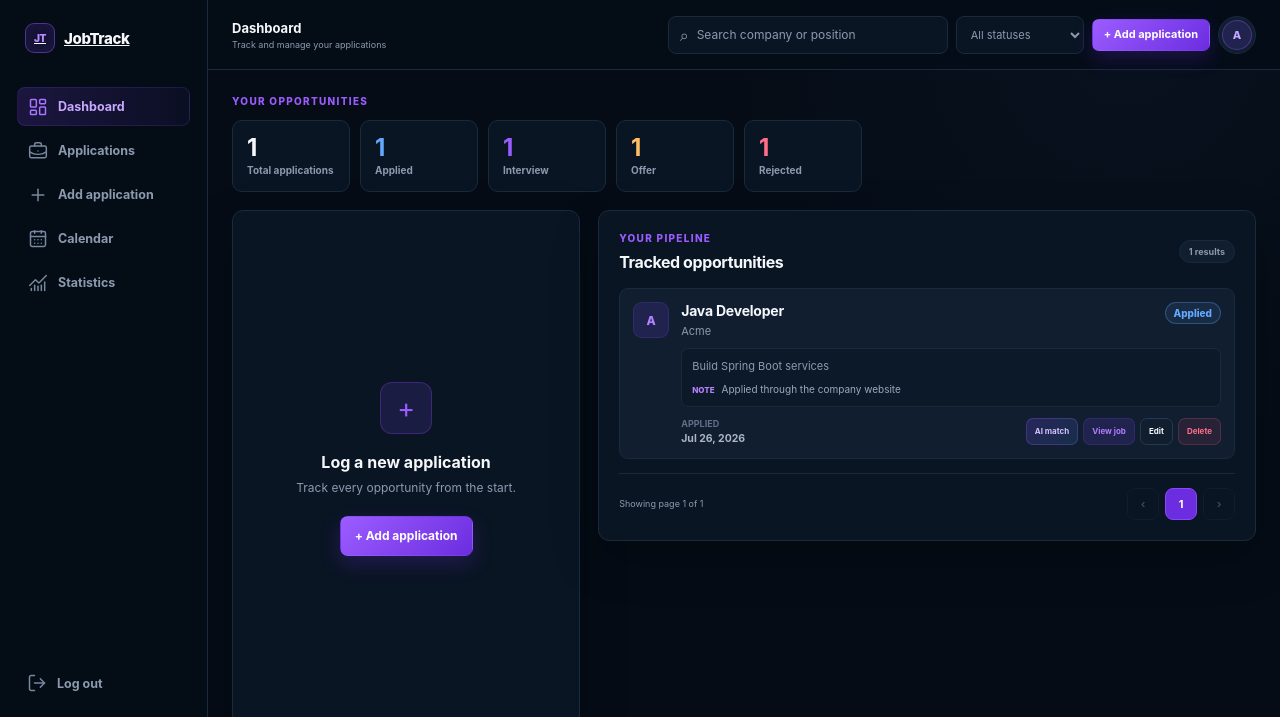
Test: ApplicationsPage › updates an existing application
Check: the heading "Java Developer" is shown, box [681, 302, 784, 320]
Click the button "Edit". click: (1156, 431)
box: [1140, 418, 1173, 445]
(page scrolled)
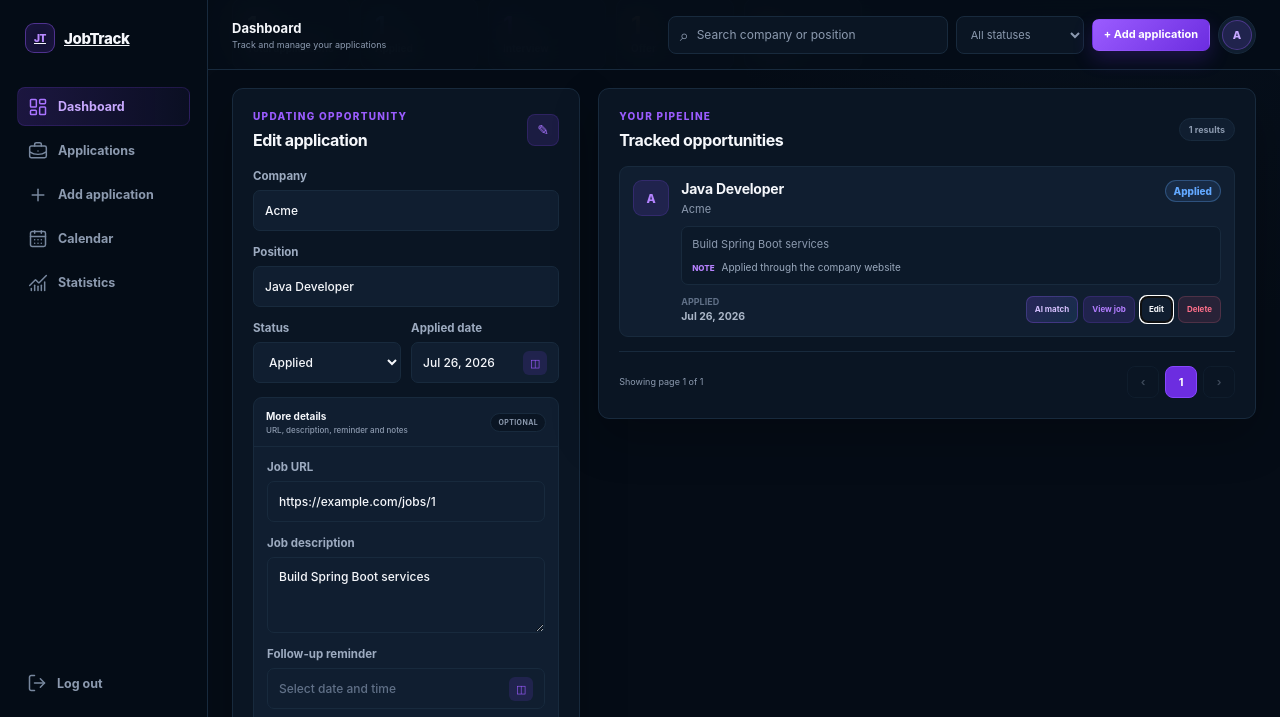
Replace the text in the field labelled "Company" with "Updated Acme". click: (406, 210)
box: [253, 190, 559, 231]
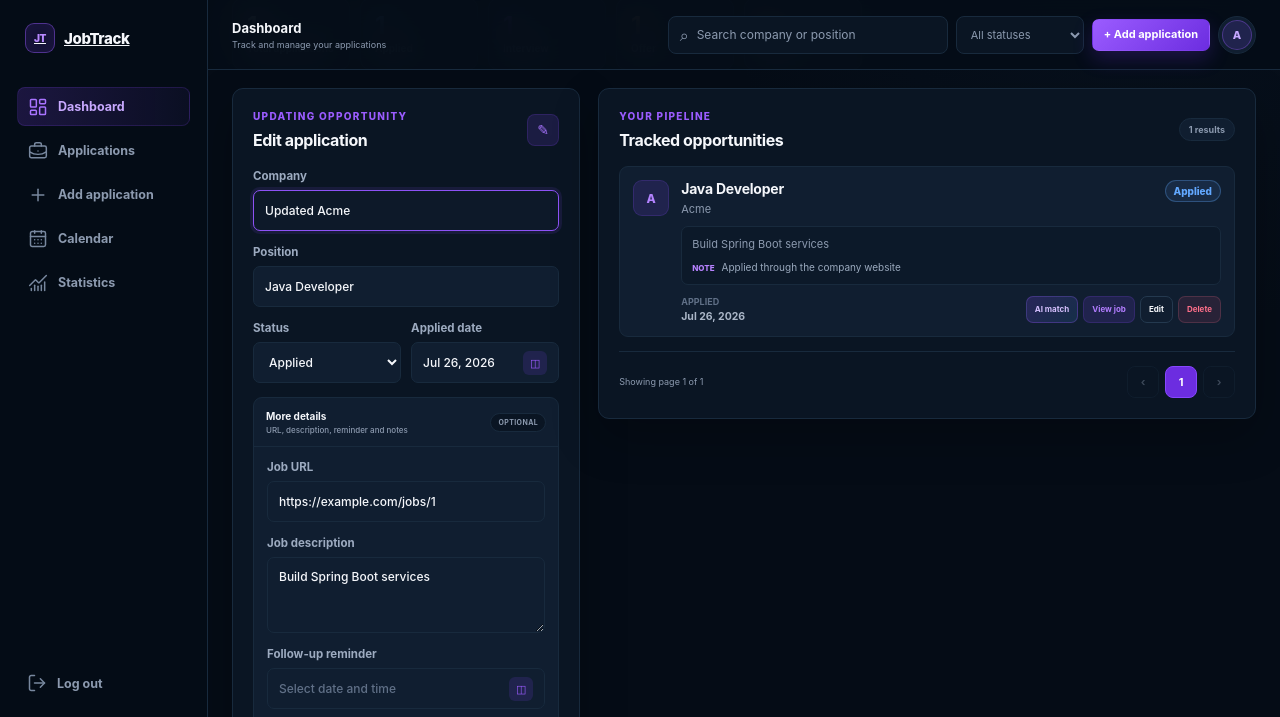
Select "Interview" in the dropdown labelled "Status". click: (327, 362)
box: [253, 342, 401, 383]
(page scrolled)
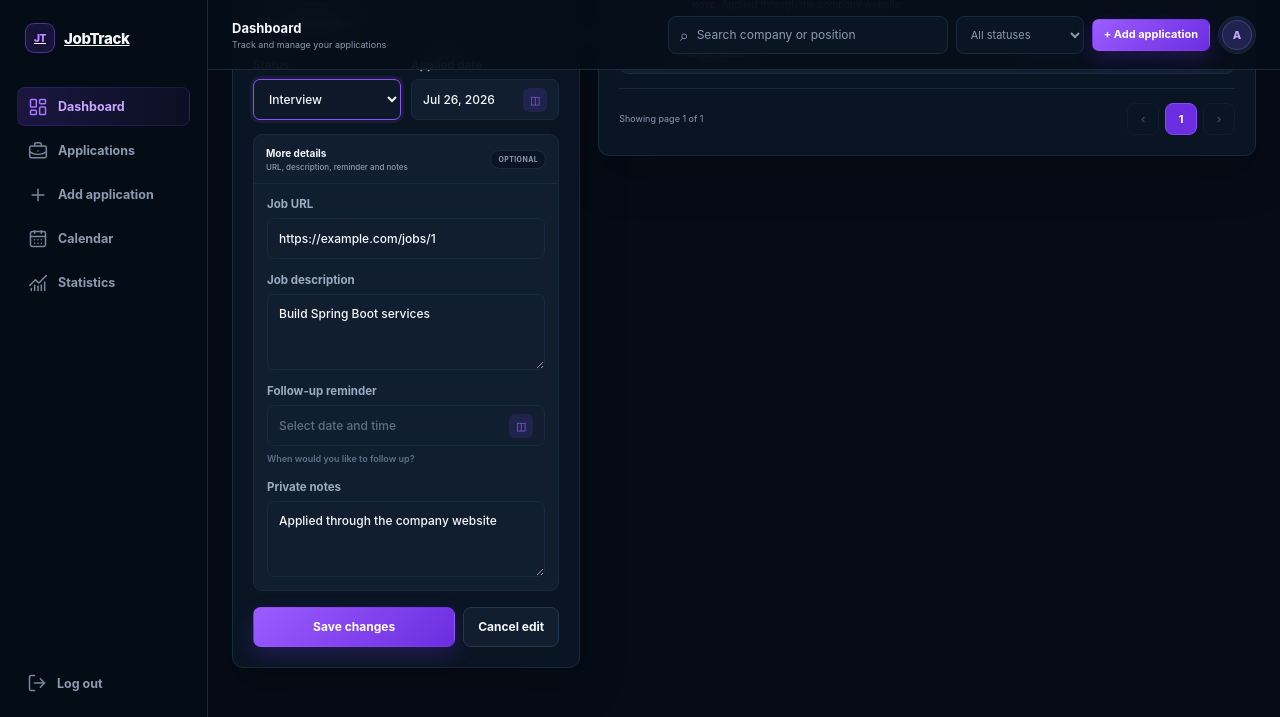
Click the button "Save changes". click: (354, 627)
box: [253, 607, 455, 647]
(page scrolled)
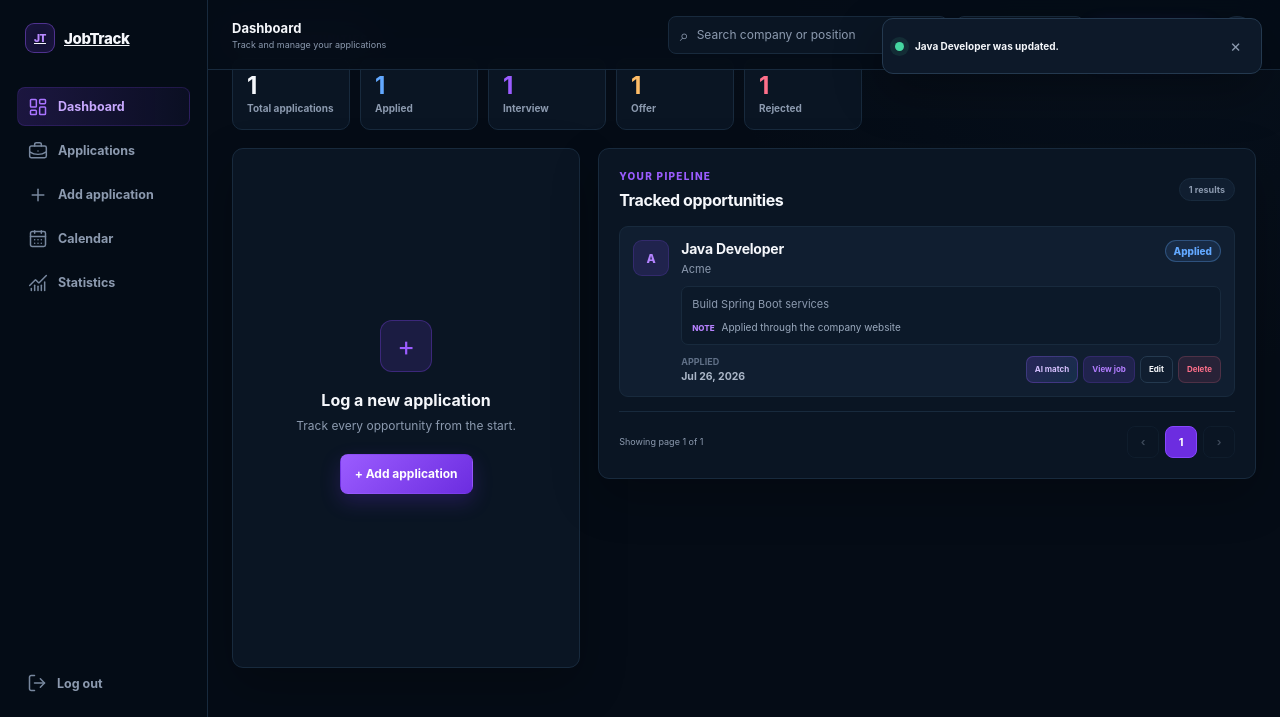
Check: the text "Java Developer was updated." is shown, box [915, 40, 1059, 52]
